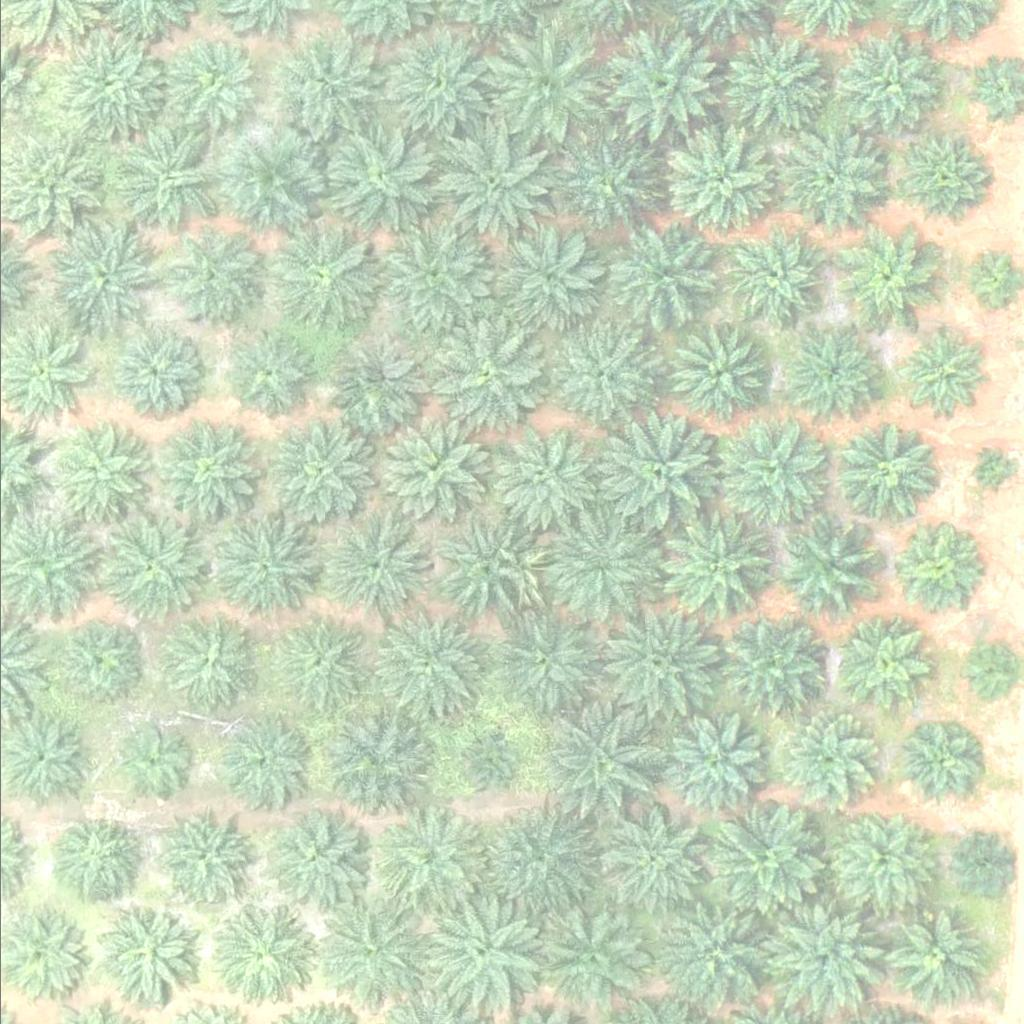Kelapa_Sawit: (595, 24, 721, 149), (477, 22, 603, 147), (429, 119, 555, 244), (591, 407, 717, 532), (534, 500, 660, 625), (592, 596, 718, 721), (533, 701, 659, 826), (702, 802, 828, 927), (473, 798, 599, 923), (653, 885, 779, 1010), (422, 895, 548, 1020), (308, 891, 434, 1016), (315, 115, 441, 240), (375, 22, 501, 147), (653, 120, 778, 245), (422, 310, 547, 435), (373, 217, 498, 342), (260, 217, 385, 342), (655, 510, 769, 623), (714, 610, 828, 723), (319, 709, 433, 822), (488, 602, 601, 715), (371, 607, 484, 720), (766, 899, 879, 1012), (534, 900, 647, 1013), (206, 515, 319, 628), (93, 512, 206, 625), (106, 122, 219, 235), (370, 807, 484, 919), (53, 28, 167, 140), (721, 416, 834, 528), (485, 419, 598, 531), (436, 509, 549, 621), (654, 710, 767, 822), (597, 801, 710, 913), (257, 606, 370, 718), (323, 511, 436, 623), (41, 222, 154, 334), (839, 34, 940, 134), (727, 34, 828, 134), (782, 129, 883, 229), (555, 137, 656, 237), (835, 231, 936, 331), (720, 226, 821, 326), (606, 227, 707, 327), (502, 231, 603, 331), (783, 323, 884, 423), (667, 325, 768, 425), (551, 322, 652, 422), (379, 419, 480, 519), (773, 706, 874, 806), (832, 810, 933, 910), (884, 910, 985, 1010), (155, 612, 256, 712), (265, 423, 366, 523), (154, 417, 255, 517), (41, 420, 142, 520), (328, 331, 429, 431), (160, 228, 261, 328), (219, 131, 320, 231), (276, 40, 377, 140), (839, 423, 939, 523), (781, 518, 881, 618), (207, 903, 307, 1003), (97, 903, 197, 1003), (263, 803, 363, 903), (150, 810, 250, 910), (208, 711, 308, 811), (220, 328, 309, 416), (896, 328, 984, 416), (841, 621, 929, 709), (892, 720, 980, 808), (52, 614, 140, 702), (109, 325, 197, 413), (899, 140, 987, 227), (887, 527, 975, 614), (50, 807, 138, 894), (168, 41, 256, 128), (117, 722, 193, 797), (450, 731, 513, 794), (947, 832, 1010, 895), (954, 642, 1017, 704), (971, 454, 1009, 491)
